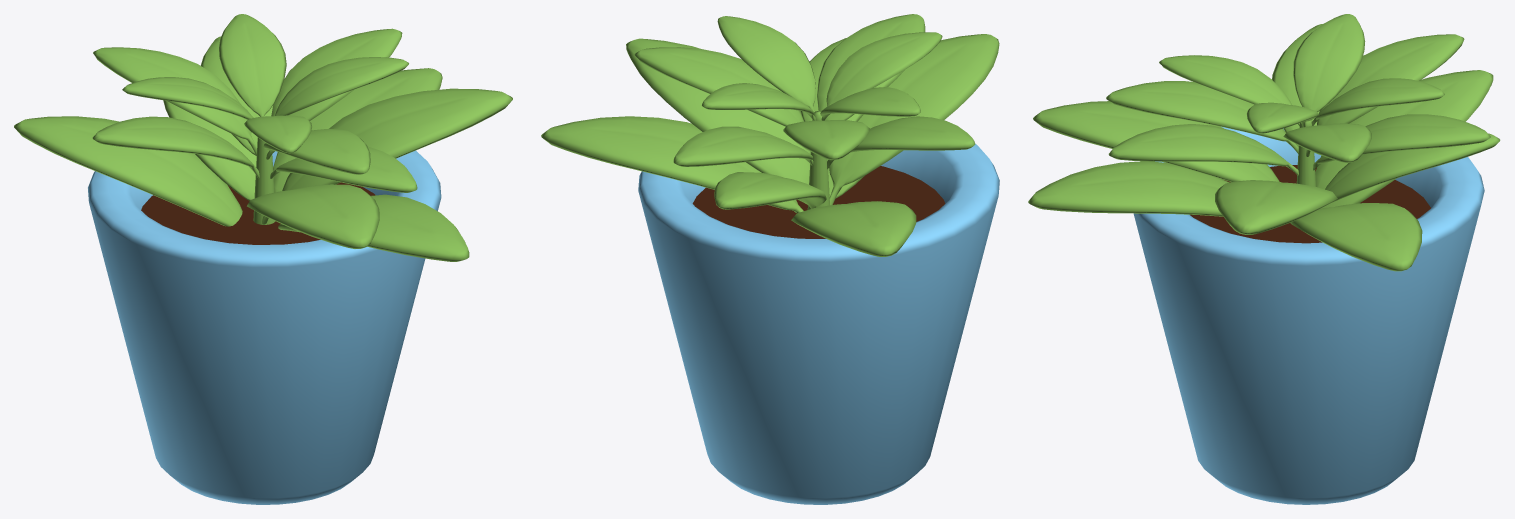
Rendered from SM_plant.fbx.
3 renders of one model, left to right at view 1: azimuth 30°, elevation 25°; view 2: azimuth 150°, elevation 25°; view 3: azimuth 270°, elevation 25°, orthographic. The views are drawn at different scales.
Parts seen in each view (by area): view 1: SM_plant; view 2: SM_plant; view 3: SM_plant.
Part boxes in pixels (x1,y1,x2,y2): SM_plant: (14,14,512,504); SM_plant: (541,14,999,504); SM_plant: (1028,14,1500,504).
Size of the model in its own units: 45.18 by 44.36 by 47.64.
1 material, 1 textured.
